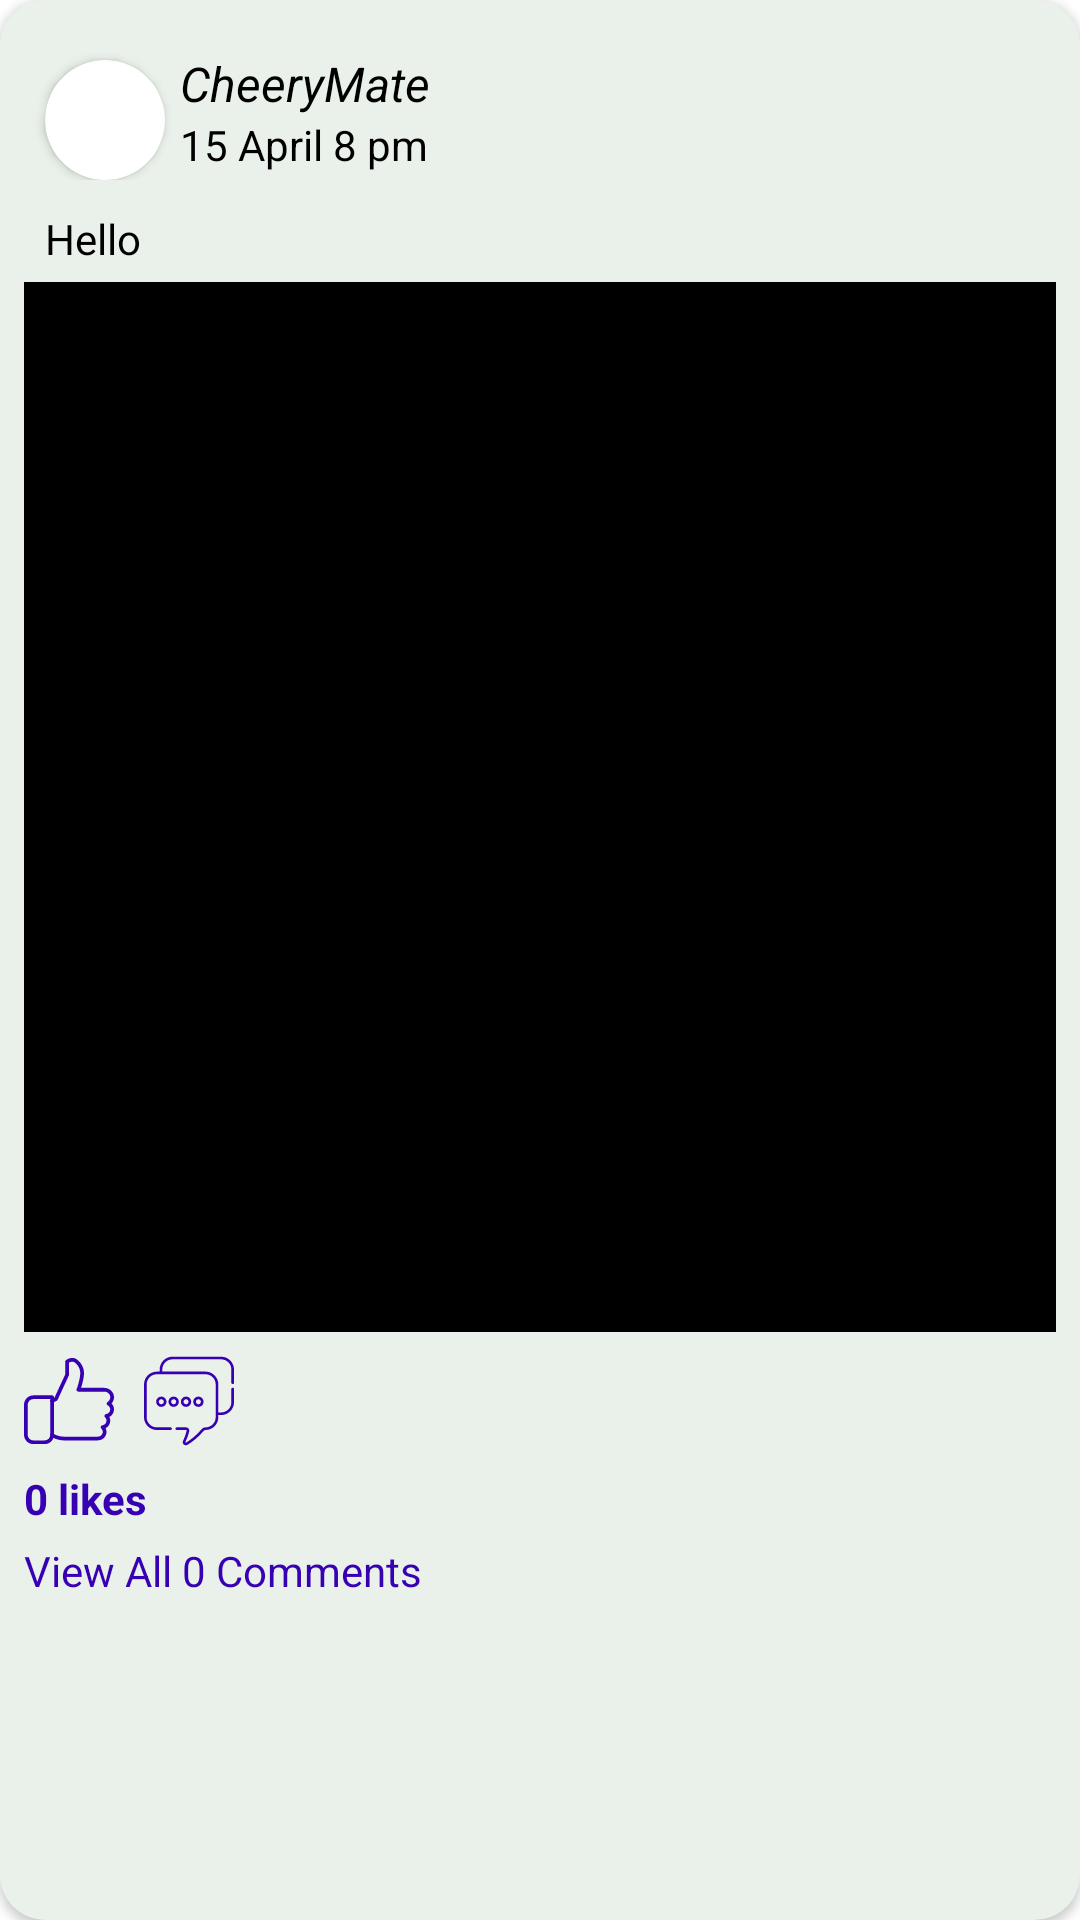

Point at icon controls on the screen. Image size 1080×1920, points as point (x, y).
thumb up: point (69, 1401)
